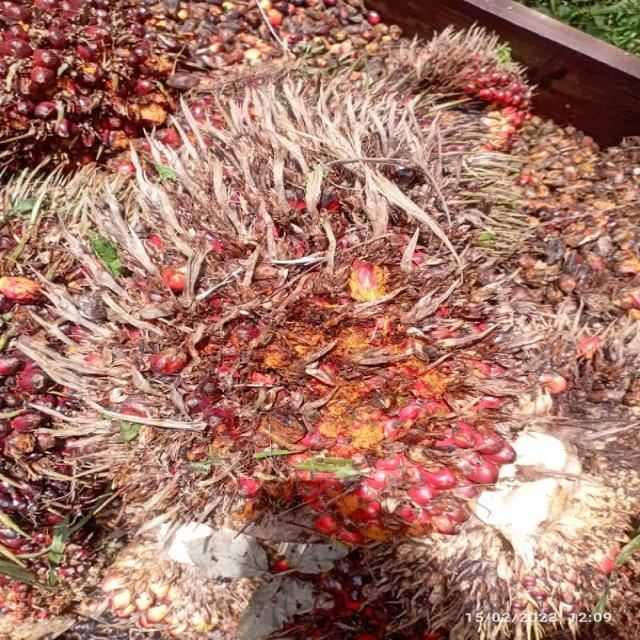fraksi 4: (47, 40, 546, 495)
